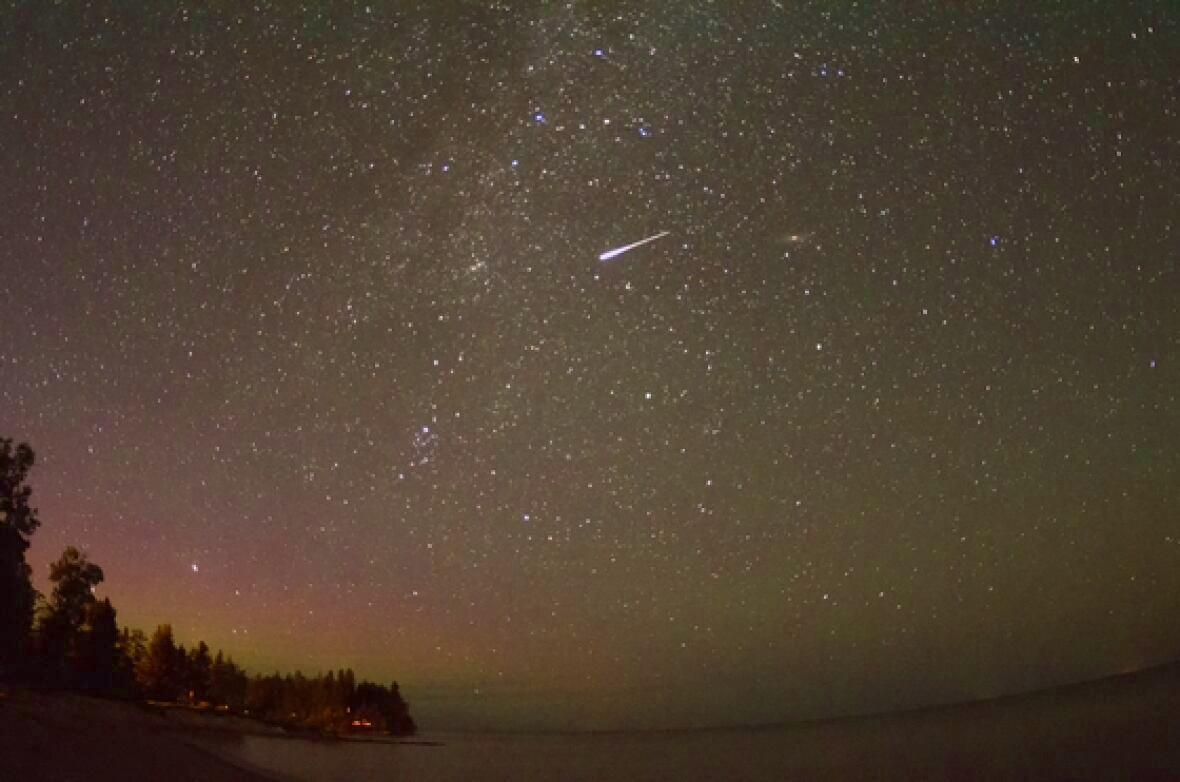meteorite: (552, 223, 716, 267)
